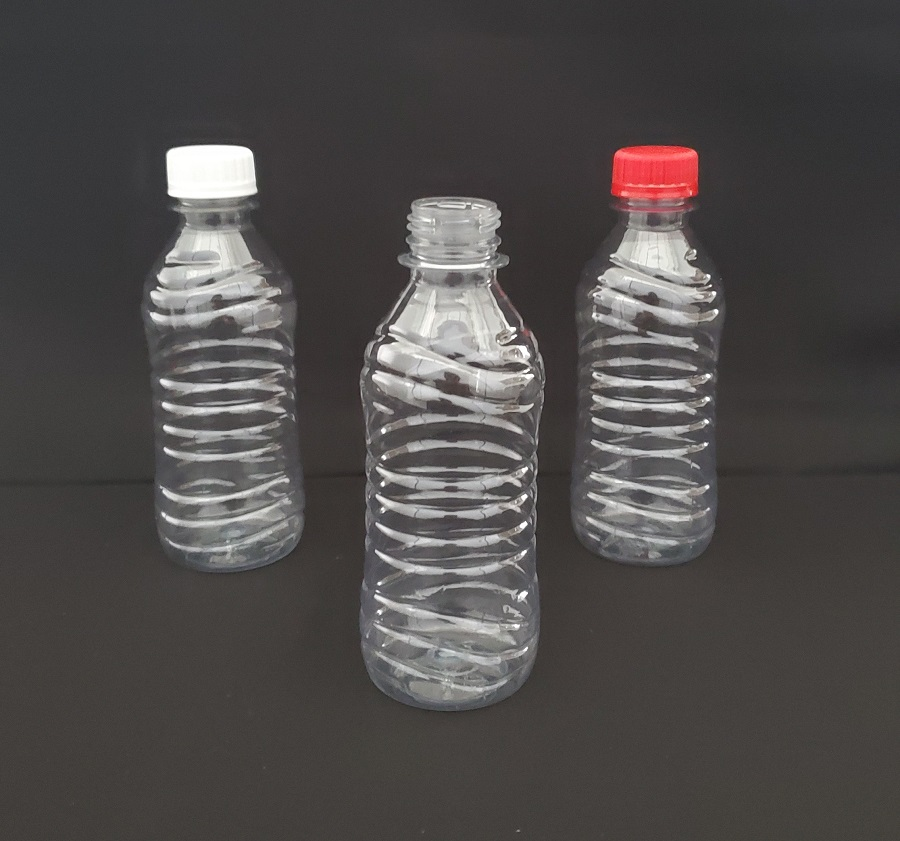plastic_bottle: (343, 176, 554, 713), (127, 131, 321, 581), (566, 137, 740, 579)
